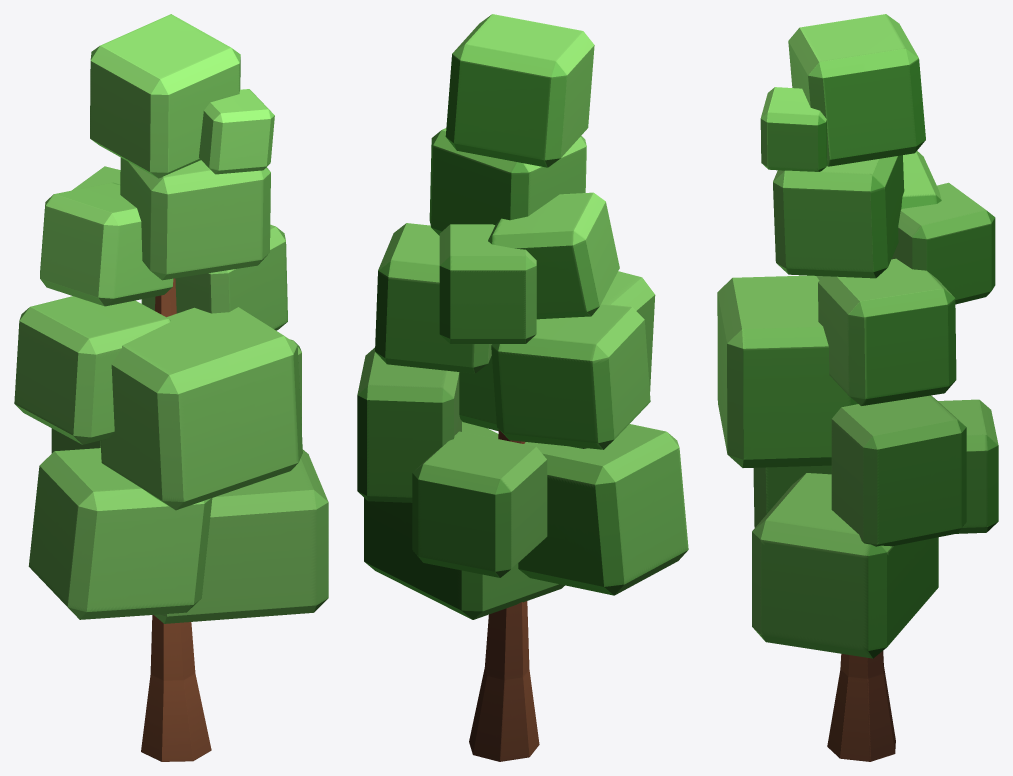
The model's file is CubeTree.fbx.
3 renders of one model, left to right at view 1: azimuth 30°, elevation 25°; view 2: azimuth 150°, elevation 25°; view 3: azimuth 270°, elevation 25°, orthographic.
Parts seen in each view (by area): view 1: CubeTree; view 2: CubeTree; view 3: CubeTree.
Part boxes in pixels (x1,y1,x2,y2): CubeTree: [14, 14, 328, 761]; CubeTree: [357, 14, 688, 761]; CubeTree: [717, 14, 998, 761].
Bounding box in the file's own units: 5.37 × 13 × 4.69.
Materials: 1 (1 with a texture image).
